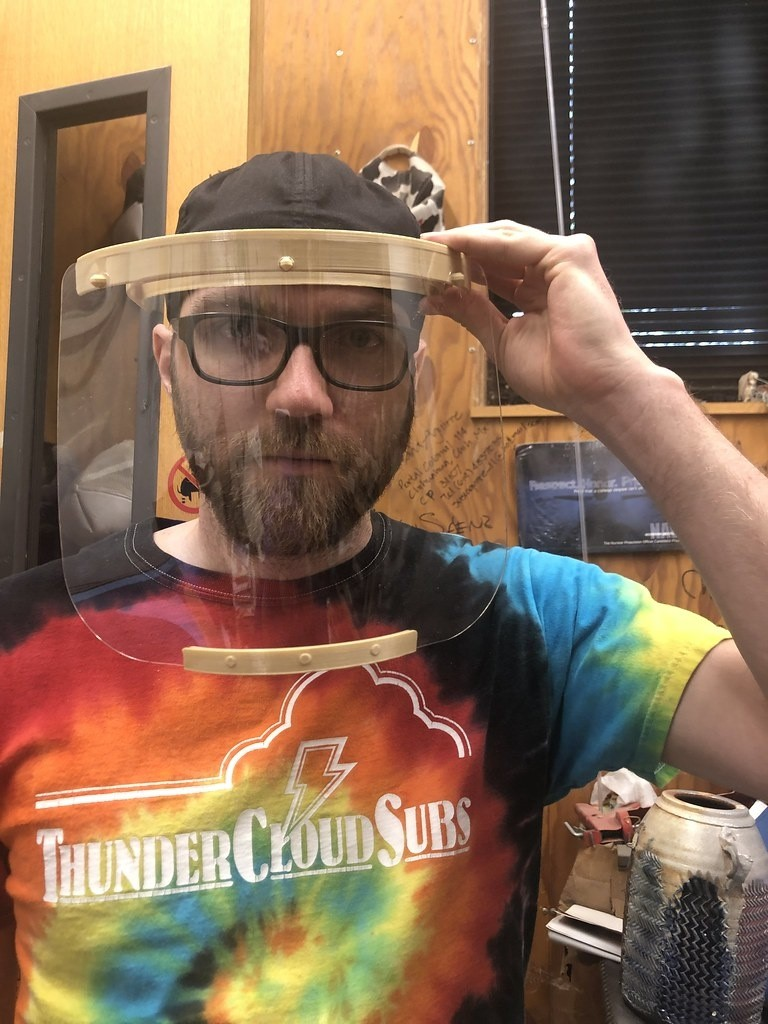face_no_mask: (167, 212, 429, 552)
